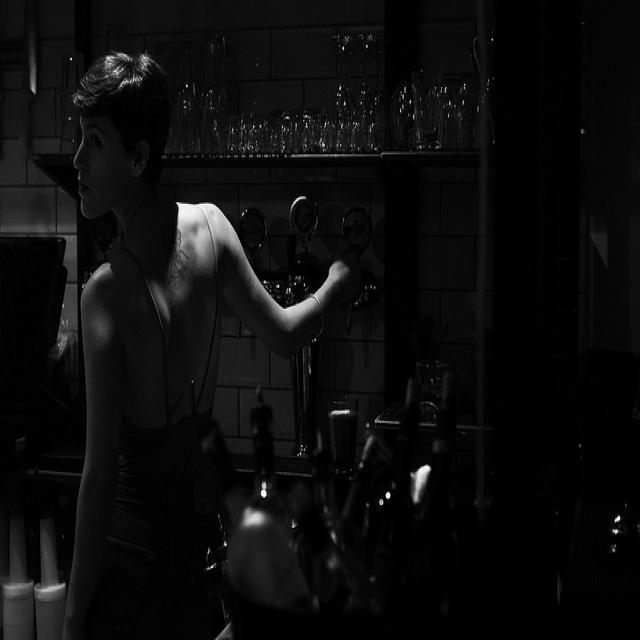Cup: (355, 20, 397, 166), (468, 19, 500, 144), (219, 55, 254, 168), (332, 25, 354, 170), (394, 63, 425, 158), (316, 57, 342, 169), (199, 63, 225, 163), (457, 58, 478, 161), (246, 90, 276, 160), (426, 62, 452, 142), (275, 108, 309, 158), (176, 75, 199, 147), (302, 97, 320, 178)
People: (68, 18, 219, 640)
